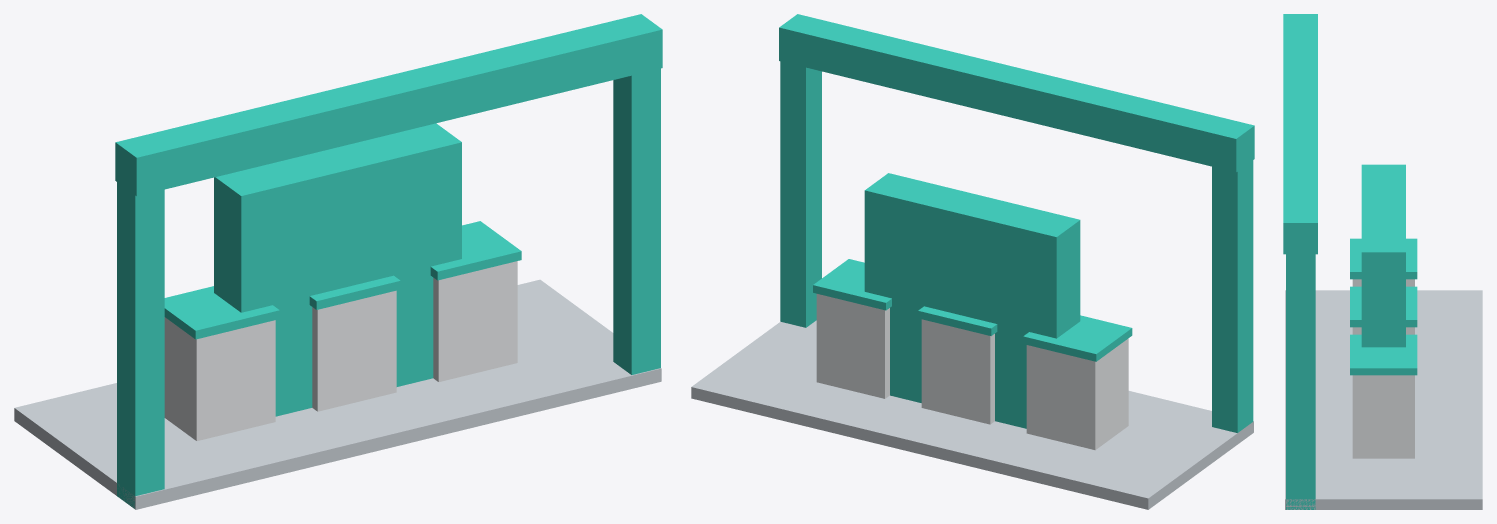
3 renders of one model, left to right at view 1: azimuth 30°, elevation 25°; view 2: azimuth 150°, elevation 25°; view 3: azimuth 270°, elevation 25°, orthographic. The views are drawn at different scales.
Parts seen in each view (by area): view 1: Exhibition Booth Concept; view 2: Exhibition Booth Concept; view 3: Exhibition Booth Concept.
Part boxes in pixels (<box>): Exhibition Booth Concept: <box>14,14,662,509</box>; Exhibition Booth Concept: <box>691,14,1254,509</box>; Exhibition Booth Concept: <box>1283,14,1482,509</box>.
Bounding box in the file's own units: 5 × 3.2 × 2.01.
